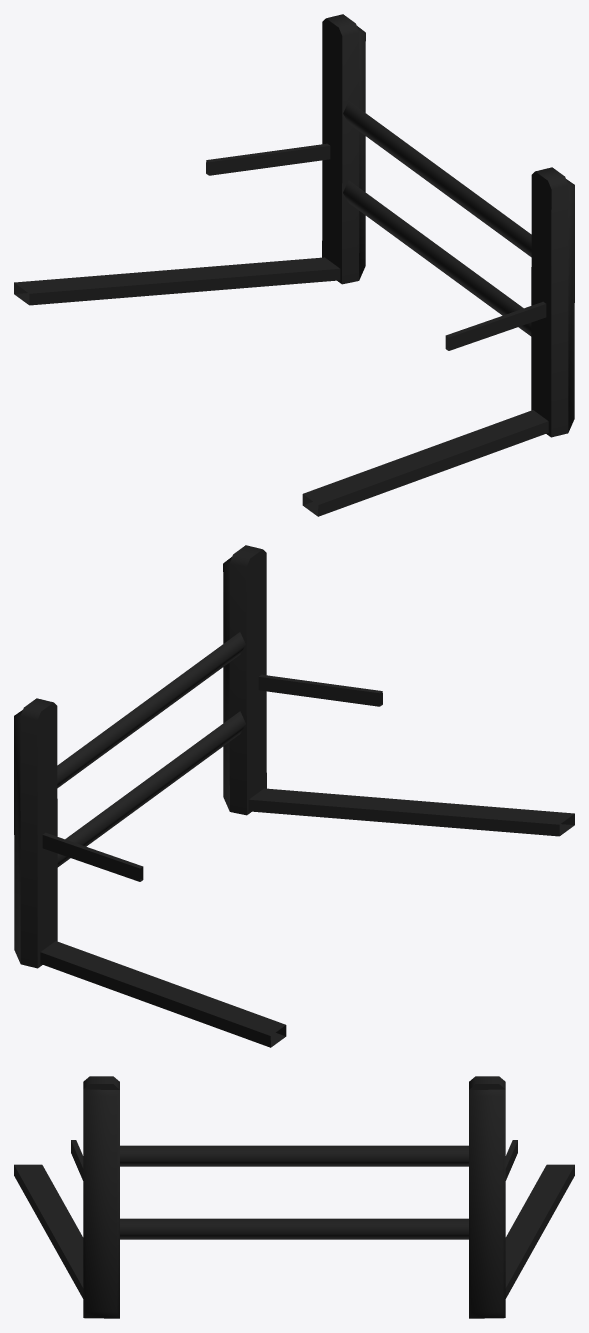
File: gallo99_bullbar_ucb_bottom_lt_0.002_lev3.glb
3 renders of one model, top to bottom at view 1: azimuth 30°, elevation 25°; view 2: azimuth 150°, elevation 25°; view 3: azimuth 270°, elevation 25°, orthographic. The views are drawn at different scales.
Visible parts, largest first — view 1: gallo99_bullbar_ucb_bottom_lt_0.002_lev3; view 2: gallo99_bullbar_ucb_bottom_lt_0.002_lev3; view 3: gallo99_bullbar_ucb_bottom_lt_0.002_lev3.
Boxes of the visible parts, left/top/right/bottom form: gallo99_bullbar_ucb_bottom_lt_0.002_lev3: left=14, top=14, right=574, bottom=516; gallo99_bullbar_ucb_bottom_lt_0.002_lev3: left=14, top=545, right=574, bottom=1047; gallo99_bullbar_ucb_bottom_lt_0.002_lev3: left=14, top=1076, right=574, bottom=1318.
Bounding box in the file's own units: 0.4433 × 0.3646 × 0.7887.
1 material, 1 textured.
